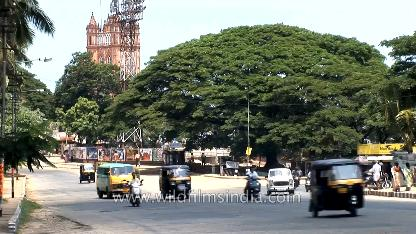auto-rikshaw: (303, 157, 367, 217), (156, 164, 196, 202), (79, 159, 97, 187)
bike: (125, 170, 145, 206), (244, 166, 264, 202)
car: (92, 164, 136, 201), (265, 166, 299, 200)
